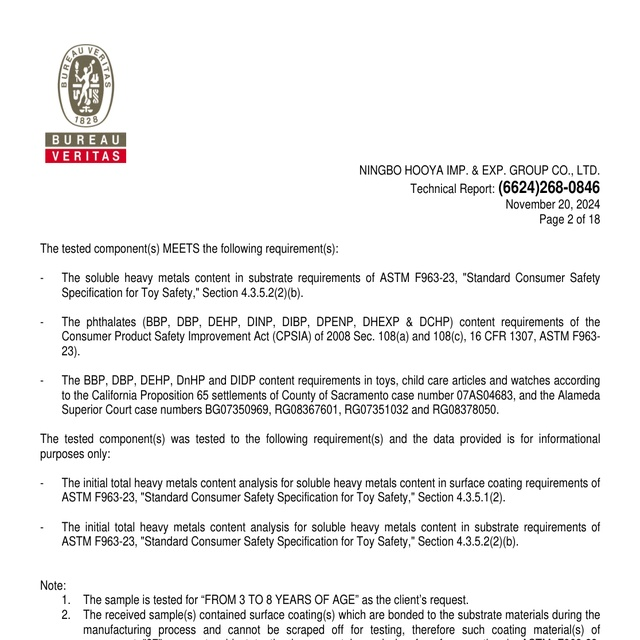bureau_veritas: (43, 42, 131, 168)
